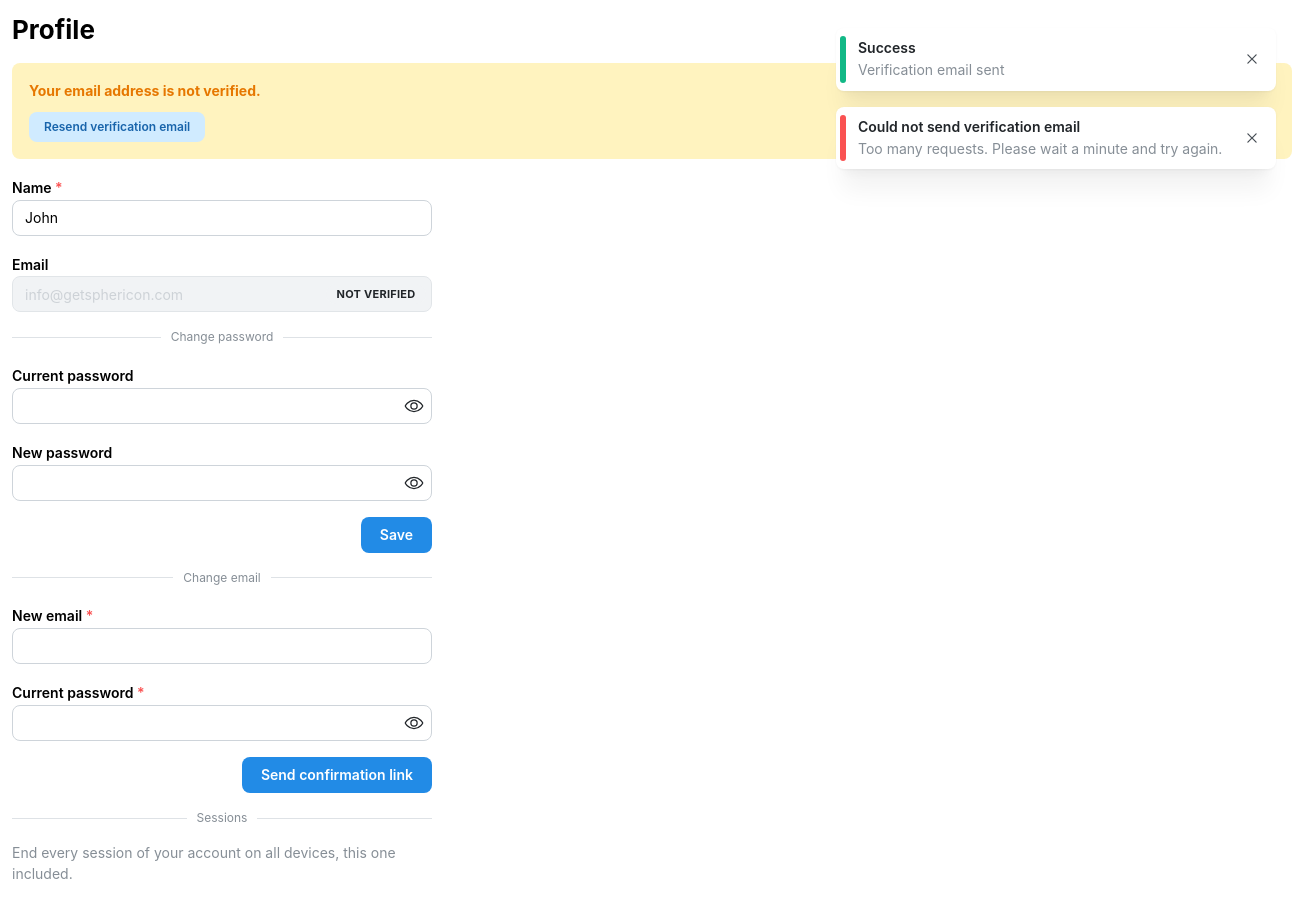
Test case: changing the password sends the current and new password
The width and height of the screenshot is (1292, 900).
Check: the field labelled "Name *" holds "John", box [12,200,432,236]
Type "old-pass" into the password field labelled "Current password" at coordinates (222, 406), box [13,389,431,423]
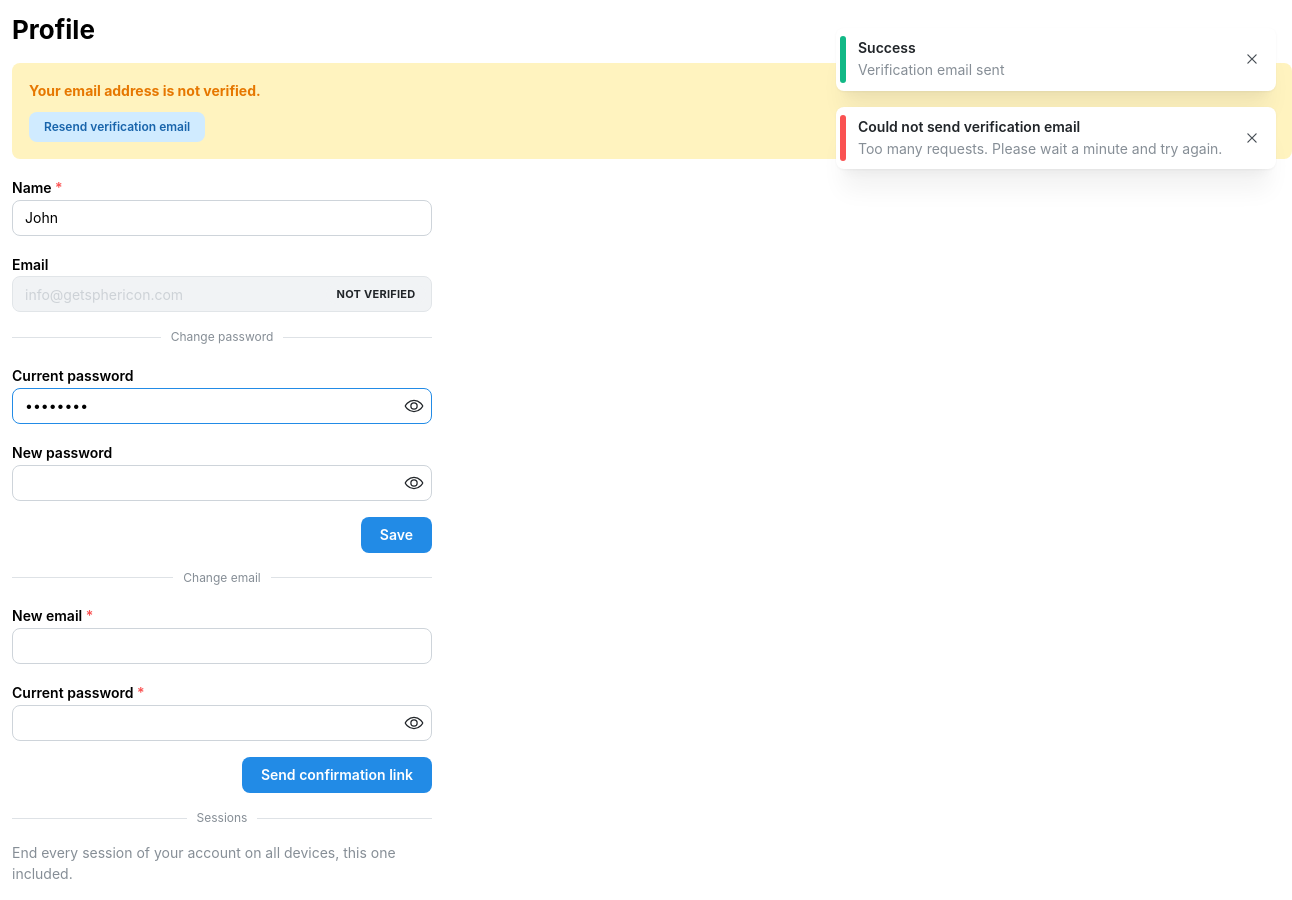
Type "new-pass-123" into the password field labelled "New password" at coordinates (222, 483), box [13,466,431,500]
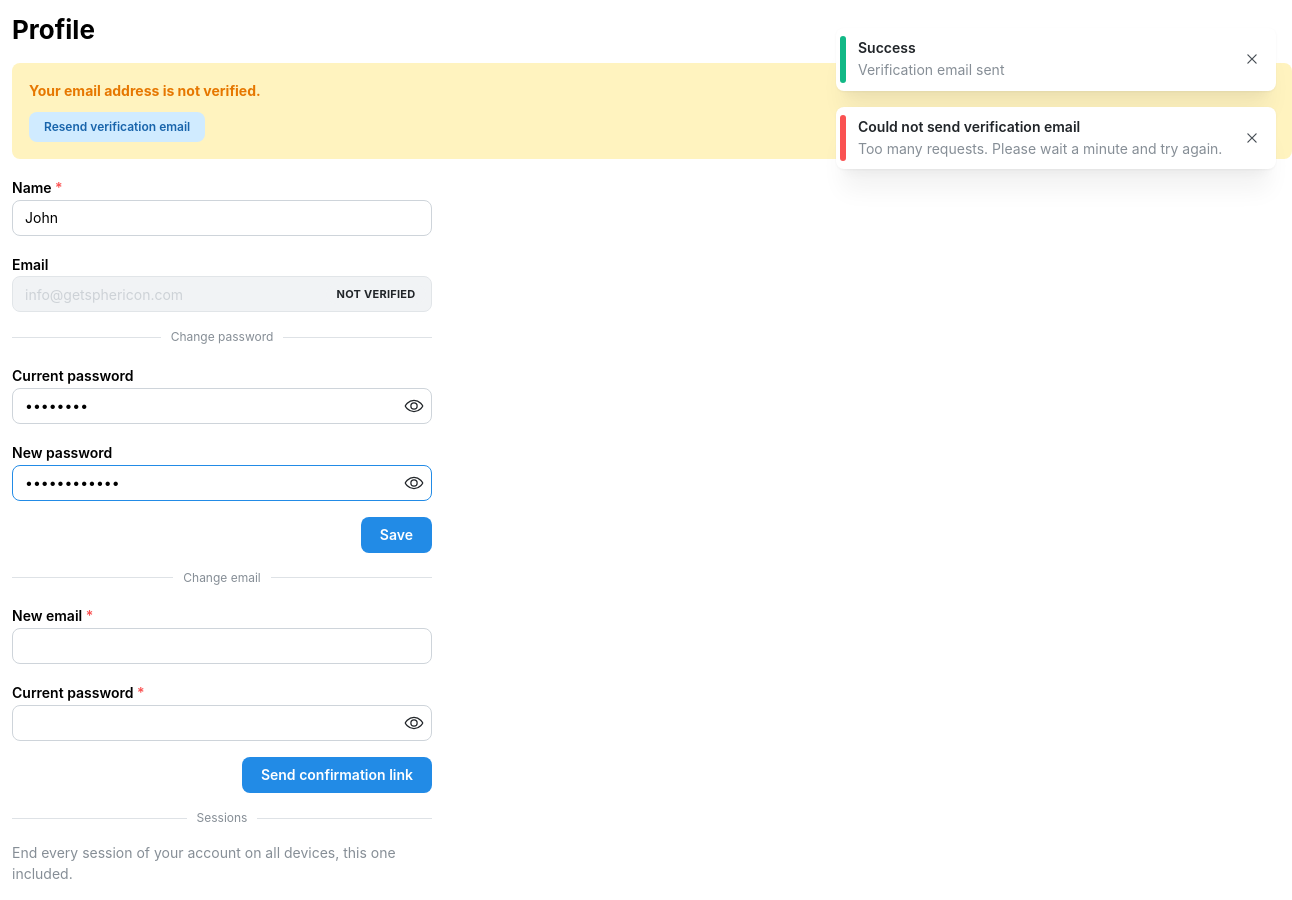
Click the button "Save" at coordinates (396, 535), box [361,517,432,553]
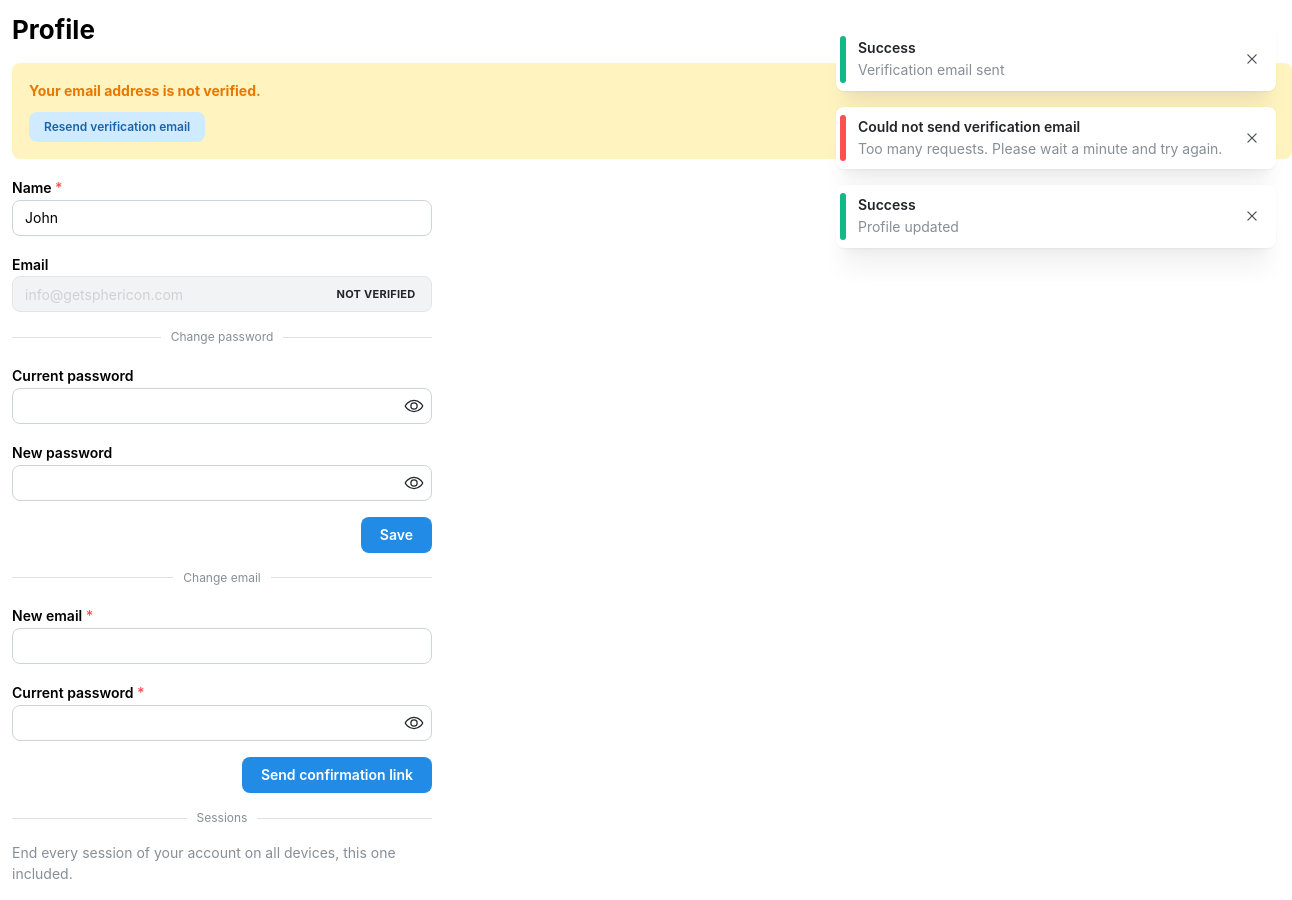
Check: the text "Profile updated" is shown, box [858,218,959,236]
